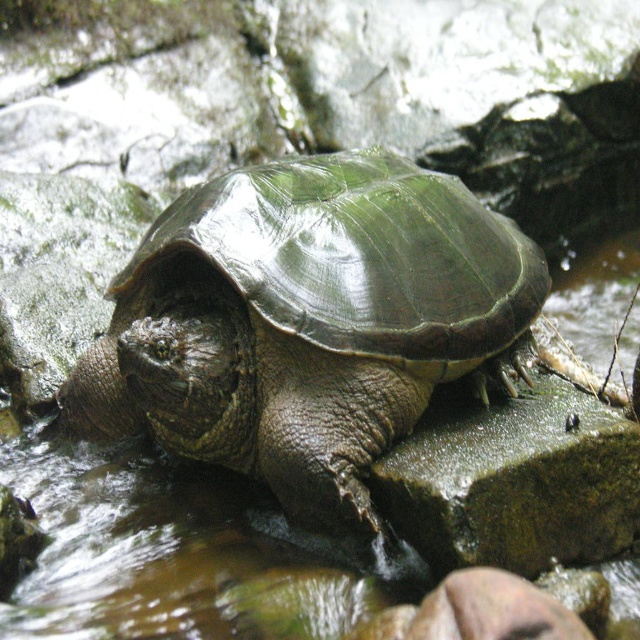Tortoise: (53, 146, 552, 538)
